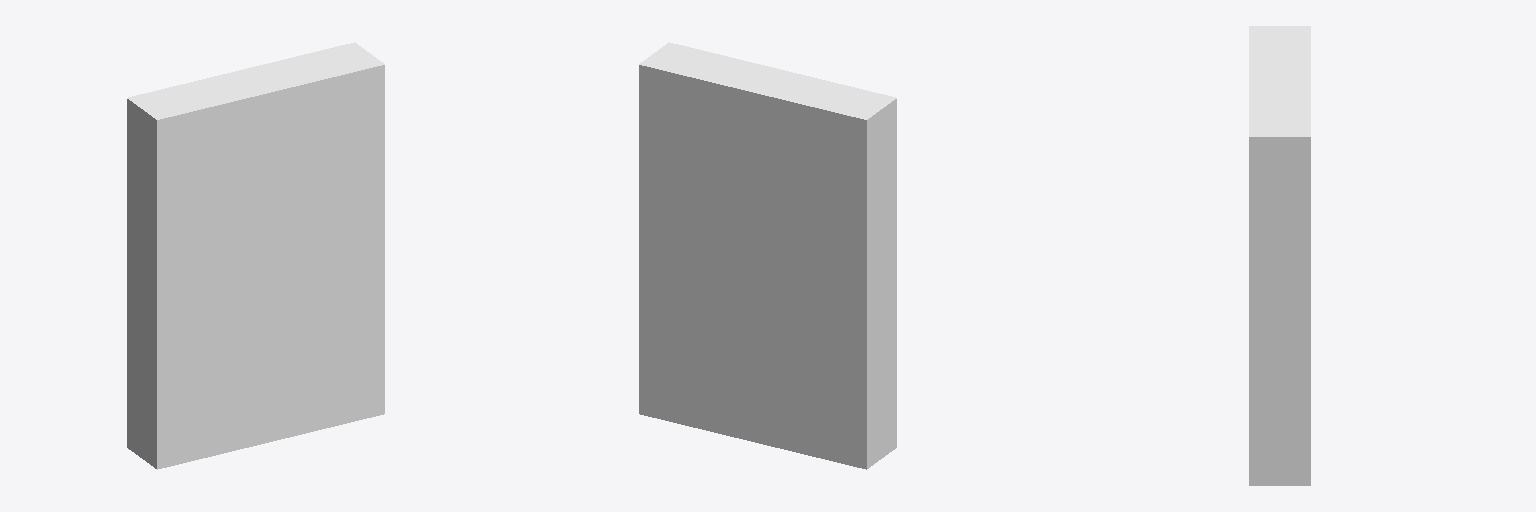
Rendered from Dungeon_Wand_braun.obj.
3 views of the same model, side by side, from view 1: azimuth 30°, elevation 25°; view 2: azimuth 150°, elevation 25°; view 3: azimuth 270°, elevation 25° (orthographic).
Parts seen in each view (by area): view 1: object 1; view 2: object 1; view 3: object 1.
Part boxes in pixels (x1,y1,x2,y2): object 1: (127,42,384,469); object 1: (639,42,896,469); object 1: (1249,26,1310,485).
Size of the model in its own units: 12.5 by 18.3 by 2.9.